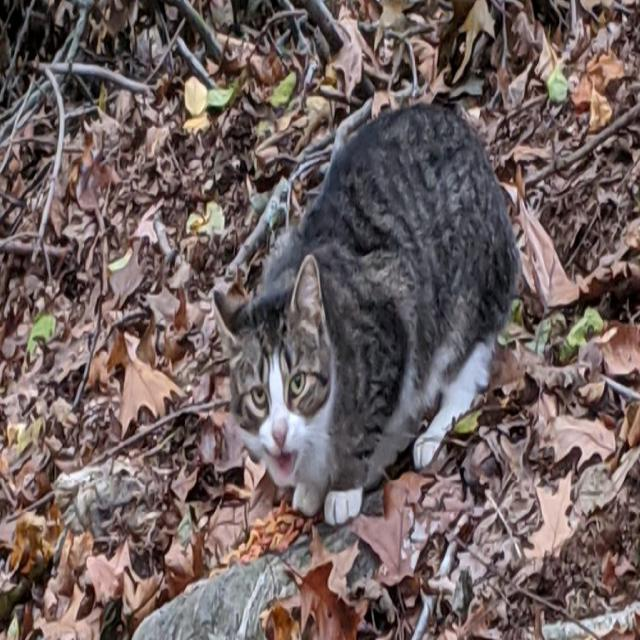cat: (215, 106, 518, 522)
